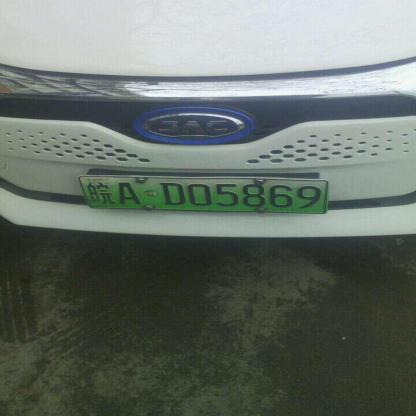lp: (80, 177, 325, 211)
